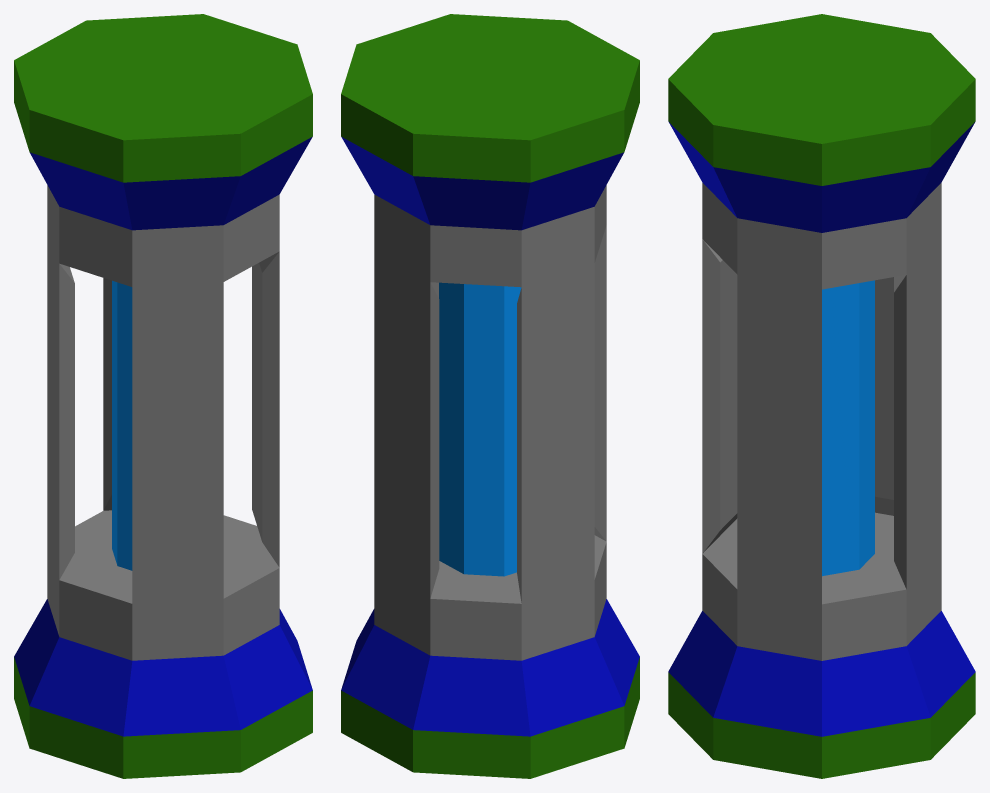
File: HealthCell.fbx
The picture shows the model from 3 angles, left to right: view 1: azimuth 30°, elevation 25°; view 2: azimuth 150°, elevation 25°; view 3: azimuth 270°, elevation 25°; orthographic projection.
Visible parts, largest first — view 1: Cylinder; view 2: Cylinder; view 3: Cylinder.
Boxes of the visible parts, left/top/right/bottom form: Cylinder: left=14, top=14, right=312, bottom=778; Cylinder: left=341, top=14, right=639, bottom=778; Cylinder: left=668, top=14, right=975, bottom=778.
Bounding box in the file's own units: 257 × 586 × 257.
